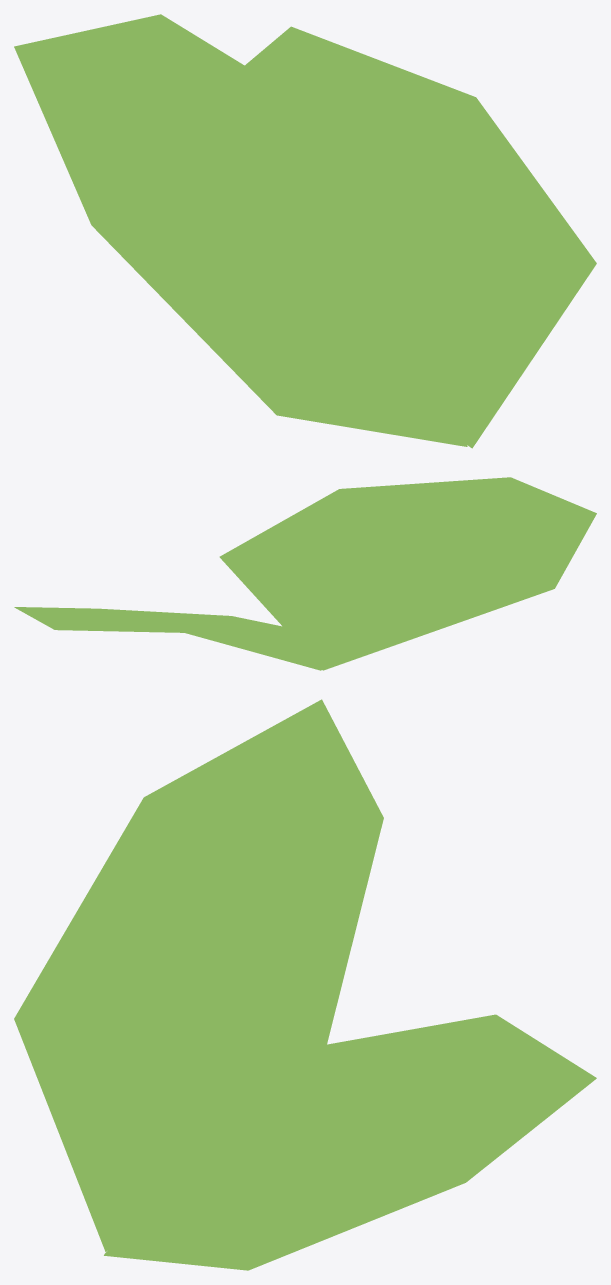
Rendered from Plant_h_TwoS_01.fbx.
3 views of the same model, one above another, from view 1: azimuth 30°, elevation 25°; view 2: azimuth 150°, elevation 25°; view 3: azimuth 270°, elevation 25° (orthographic). The views are drawn at different scales.
Parts seen in each view (by area): view 1: Plant_h_TwoS_01; view 2: Plant_h_TwoS_01; view 3: Plant_h_TwoS_01.
Boxes of the visible parts, x1,y1,x2,y2 form: Plant_h_TwoS_01: (14,14,596,448); Plant_h_TwoS_01: (14,477,596,670); Plant_h_TwoS_01: (14,699,596,1270).
Size of the model in its own units: 0.2683 by 0.1854 by 0.2495.
